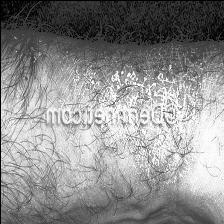Toxin: (28, 44, 194, 97)
